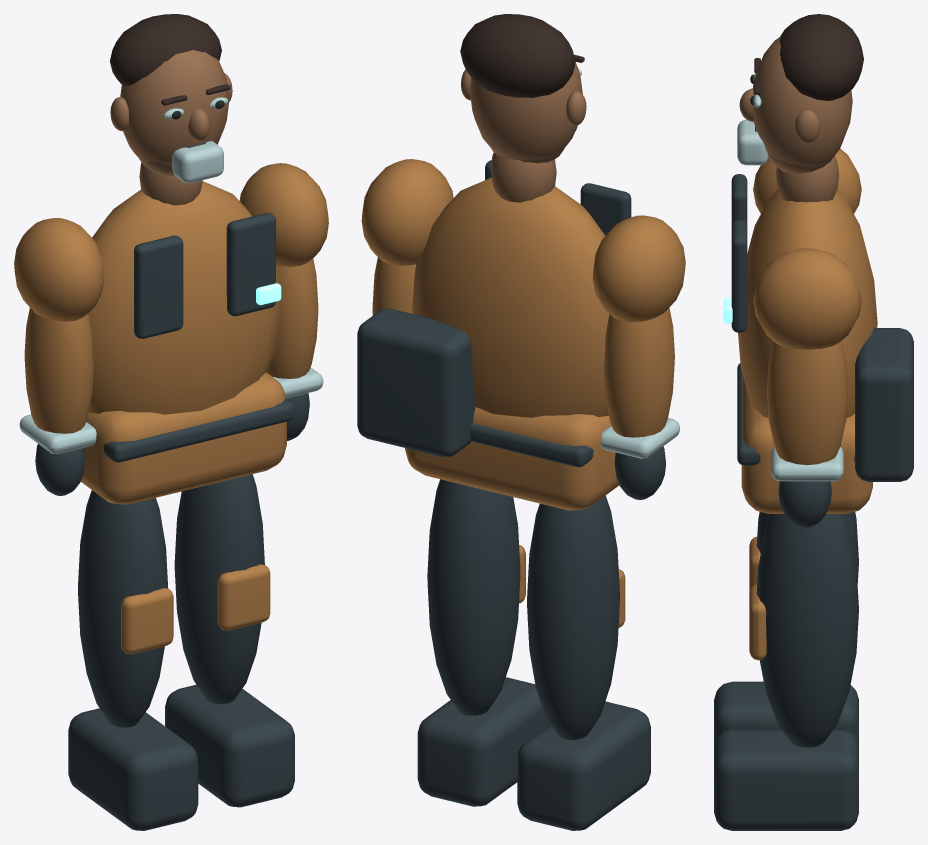
File: npc-rook.glb
3 views of the same model, side by side, from view 1: azimuth 30°, elevation 25°; view 2: azimuth 150°, elevation 25°; view 3: azimuth 270°, elevation 25° (orthographic). The views are drawn at different scales.
Parts seen in each view (by area): view 1: Coat torso, Trouser, Trouser.001, Coat hem, Boot, Boot.001, Face, Shoulder, Sleeve, Shoulder.001, Hair cap, Lapel (+11 smaller); view 2: Coat torso, Trouser, Trouser.001, Courier satchel, Boot, Coat hem, Boot.001, Shoulder, Sleeve, Hair cap, Shoulder.001, Face (+6 smaller); view 3: Trouser.001, Boot.001, Coat torso, Shoulder.001, Sleeve.001, Courier satchel, Face, Hair cap, Coat hem, Boot, Glove.001, Neck (+11 smaller).
Boxes of the visible parts, <box> form: Coat torso: <box>88,181,279,414</box>; Trouser: <box>78,490,168,727</box>; Trouser.001: <box>174,474,264,703</box>; Coat hem: <box>80,372,286,504</box>; Boot: <box>68,708,198,830</box>; Boot.001: <box>165,684,294,807</box>; Face: <box>120,50,229,162</box>; Shoulder: <box>14,218,104,321</box>; Sleeve: <box>24,308,93,433</box>; Shoulder.001: <box>239,163,328,266</box>; Hair cap: <box>110,14,221,85</box>; Lapel: <box>134,235,183,338</box>; Coat torso: <box>412,177,609,417</box>; Trouser: <box>527,495,619,739</box>; Trouser.001: <box>427,479,520,715</box>; Courier satchel: <box>357,308,475,457</box>; Boot: <box>517,701,650,830</box>; Coat hem: <box>405,407,619,510</box>; Boot.001: <box>417,677,549,806</box>; Shoulder: <box>592,215,685,322</box>; Sleeve: <box>603,307,674,437</box>; Hair cap: <box>460,14,575,97</box>; Shoulder.001: <box>361,159,453,265</box>; Face: <box>469,63,582,159</box>; Trouser.001: <box>756,514,858,747</box>; Boot.001: <box>714,729,858,830</box>; Coat torso: <box>738,189,877,417</box>; Shoulder.001: <box>753,248,861,349</box>; Sleeve.001: <box>766,341,848,465</box>; Courier satchel: <box>855,328,913,481</box>; Face: <box>752,37,852,166</box>; Hair cap: <box>779,14,863,100</box>; Coat hem: <box>741,375,872,513</box>; Boot: <box>714,681,858,746</box>; Glove.001: <box>778,481,831,527</box>; Neck: <box>775,156,838,202</box>.
Bounding box in the file's own units: 0.772 × 1.88 × 0.441.
